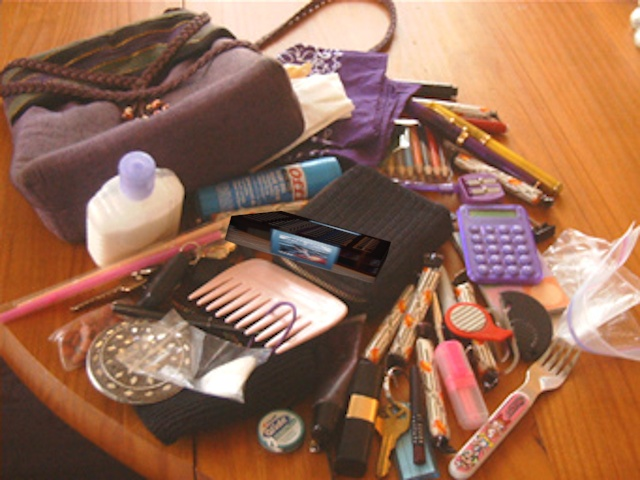calculator: (224, 208, 400, 288)
